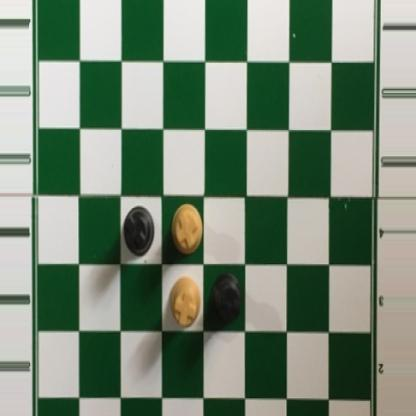black-rook: (209, 271, 247, 327), (123, 205, 154, 256)
white-rook: (170, 201, 203, 259), (168, 275, 199, 328)
